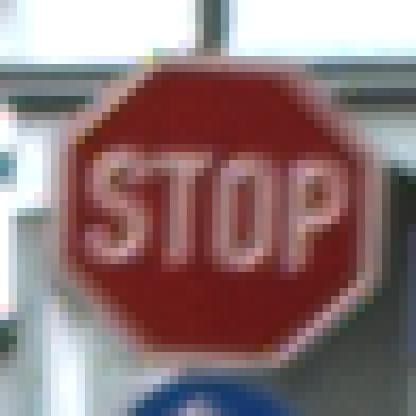Stop: (63, 65, 374, 363)
